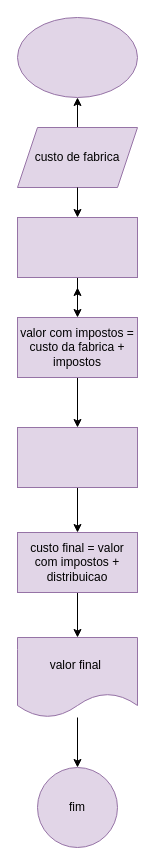
Some shapes in this 155 by 865 pixel diagram are drawn without their labels. Each missing label, with the centre of its shape:
distribuicao = valor com impostos * 0.28: the point at 77,457
impostos = custo da fabrica * 0.45: the point at 77,247
inicio: the point at 77,57
